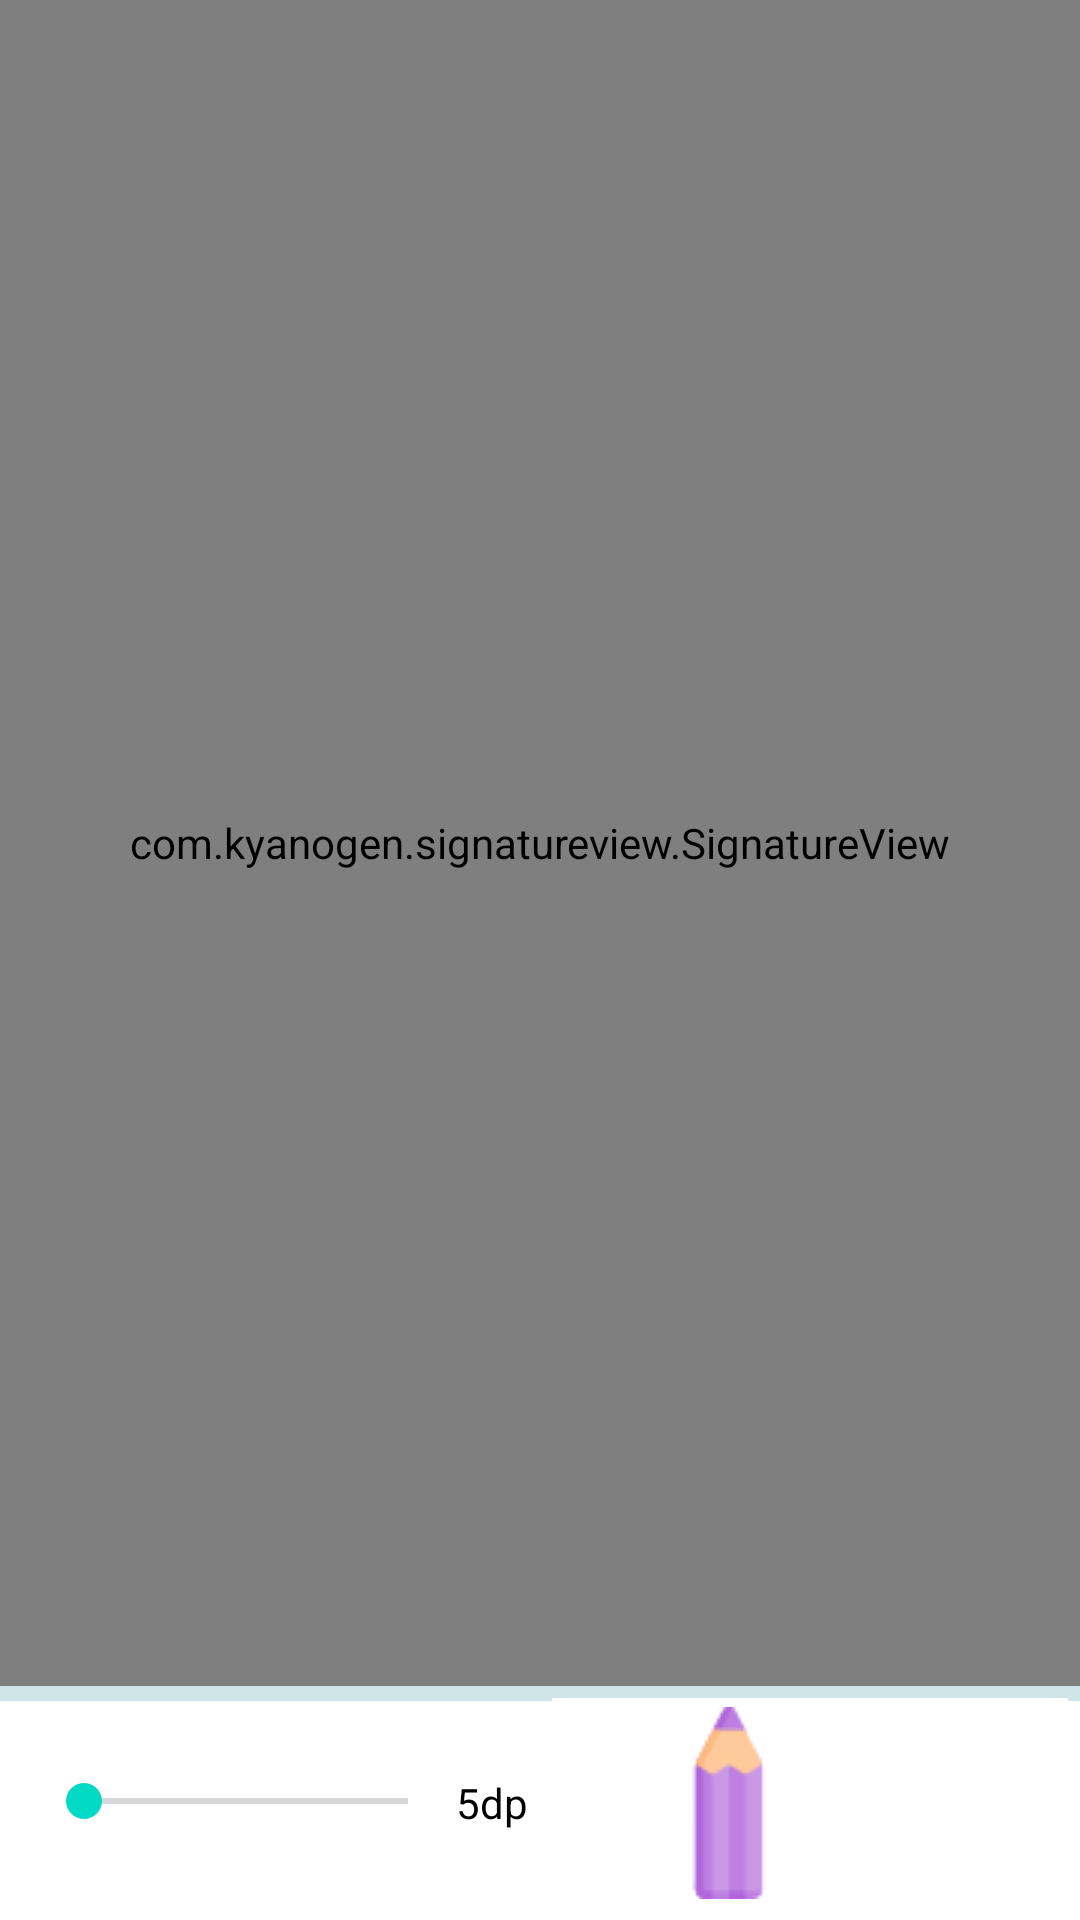

Named icons in this screenshot (1080x1920) and their centers, (x=x, y=y):
colorpencil: (x=728, y=1803)
